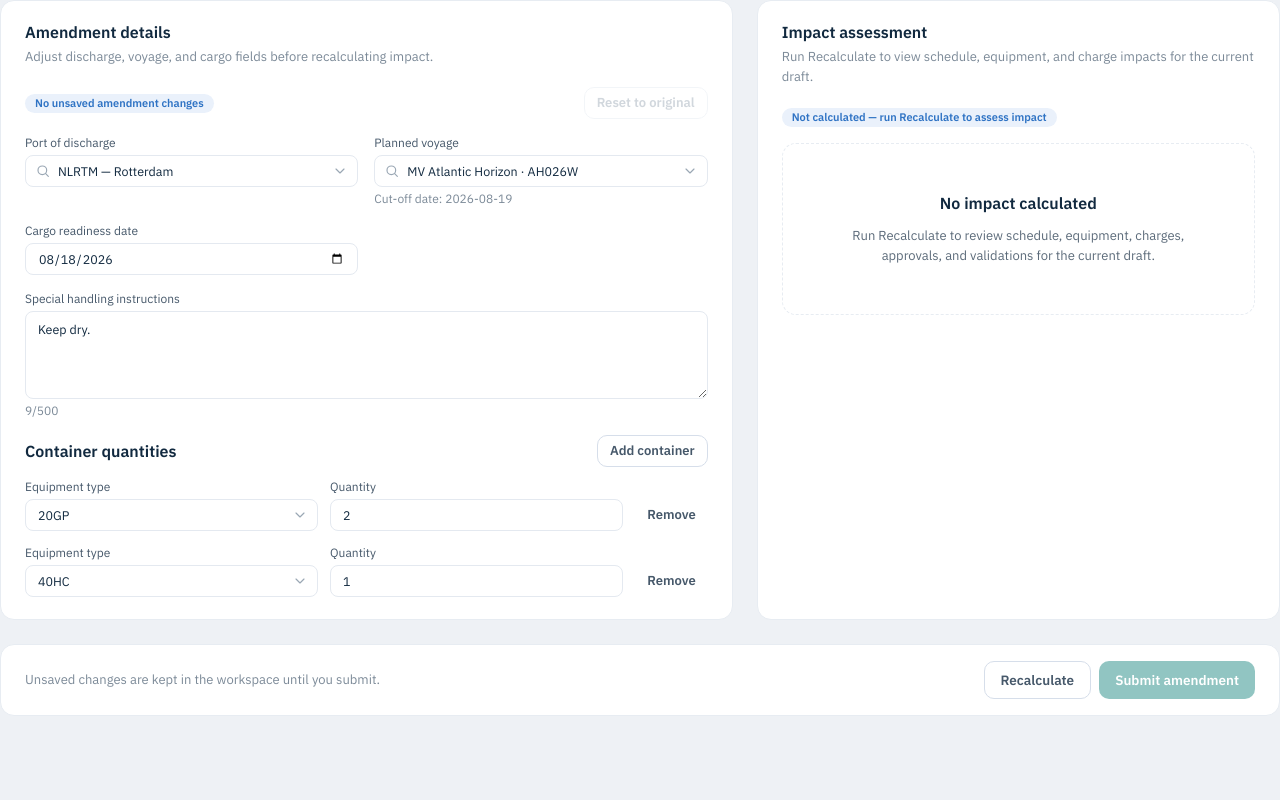
BookingAmendmentWorkspace › shows failure feedback and keeps submit disabled
The image size is (1280, 800).
Click the button "Recalculate": (1037,680) [984, 661, 1091, 699]
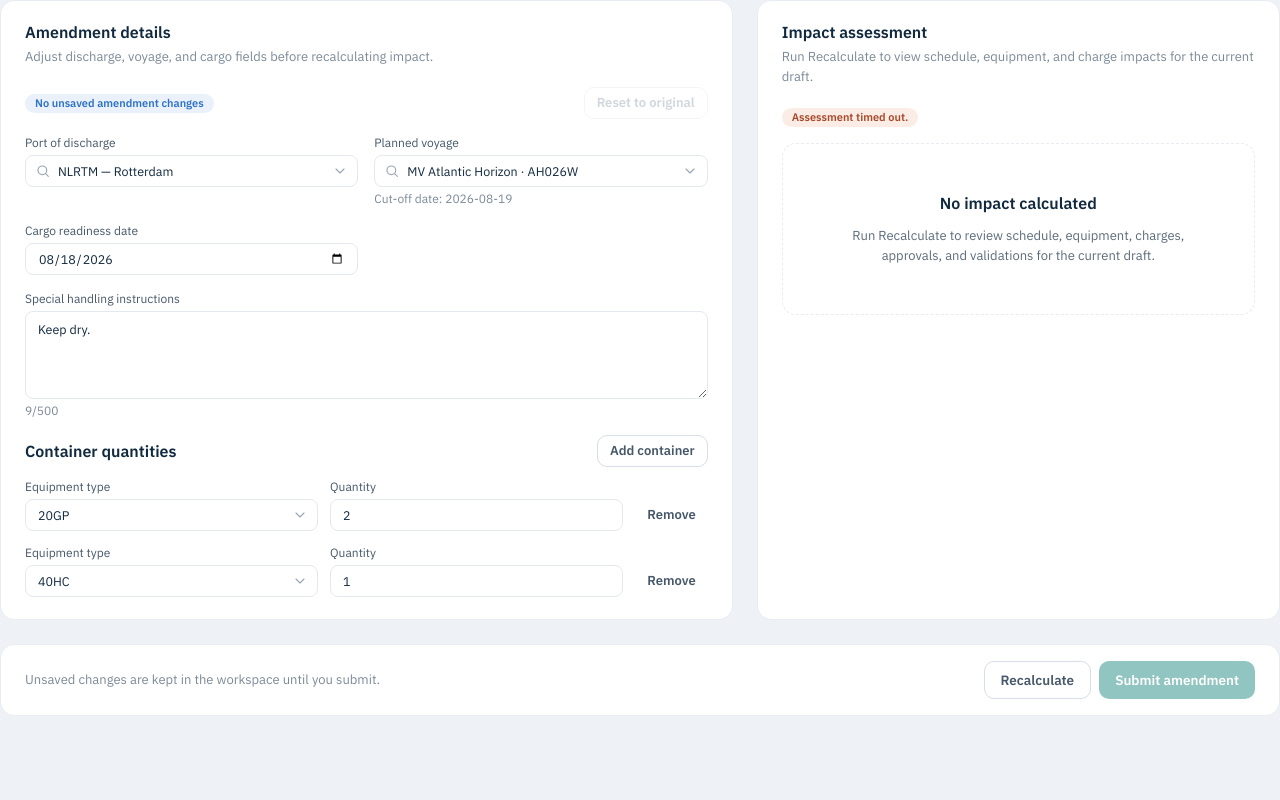
Expected: the button "Submit amendment" is disabled, [1099, 661, 1255, 699]
Expected: the text "Assessment timed out." is shown, [782, 108, 918, 127]
